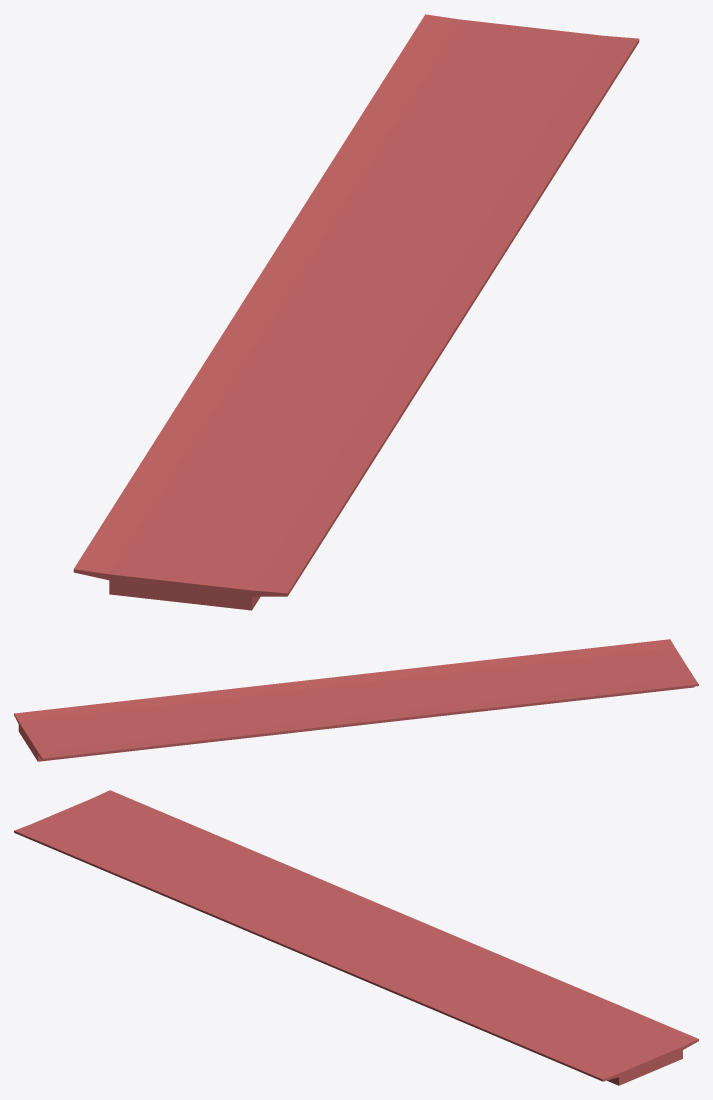
The model's file is bridge3_deck.obj.
3 views of the same model, one above another, from view 1: azimuth 30°, elevation 25°; view 2: azimuth 150°, elevation 25°; view 3: azimuth 270°, elevation 25° (orthographic). The views are drawn at different scales.
Parts seen in each view (by area): view 1: mesh_0; view 2: mesh_0; view 3: mesh_0.
Part boxes in pixels (bbox=[...]): mesh_0: bbox=[73, 14, 639, 610]; mesh_0: bbox=[14, 639, 698, 761]; mesh_0: bbox=[14, 790, 698, 1085].
Size of the model in its own units: 75.66 by 1.59 by 75.66.
